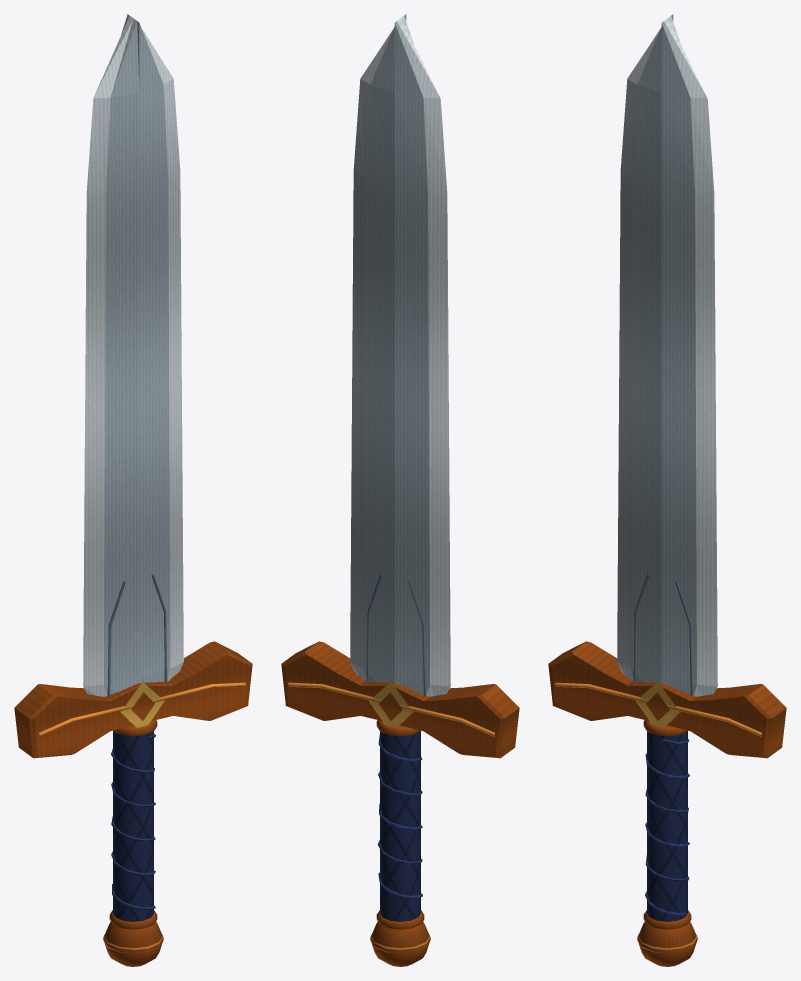
File: biggoron_sword.glb
The picture shows the model from 3 angles, left to right: view 1: azimuth 30°, elevation 25°; view 2: azimuth 150°, elevation 25°; view 3: azimuth 330°, elevation 25°; orthographic projection.
Parts seen in each view (by area): view 1: Long Biggoron steel blade and seated tang facet 1, Long Biggoron steel blade and seated tang facet 2, Long Biggoron steel blade and seated tang facet 0, Orange-bronze Biggoron crossguard, Long Biggoron steel blade and seated tang facet 3, Textured leather grip, Biggoron heavy bronze pommel, Biggoron solid guard rim, Raised spiral leather binding, Goron guard stamped diamond; view 2: Long Biggoron steel blade and seated tang facet 6, Long Biggoron steel blade and seated tang facet 5, Long Biggoron steel blade and seated tang facet 7, Orange-bronze Biggoron crossguard, Long Biggoron steel blade and seated tang facet 4, Textured leather grip, Biggoron heavy bronze pommel, Biggoron solid guard rim, Raised spiral leather binding, Goron guard stamped diamond; view 3: Long Biggoron steel blade and seated tang facet 2, Long Biggoron steel blade and seated tang facet 1, Long Biggoron steel blade and seated tang facet 3, Orange-bronze Biggoron crossguard, Long Biggoron steel blade and seated tang facet 0, Textured leather grip, Biggoron heavy bronze pommel, Raised spiral leather binding, Biggoron solid guard rim, Goron guard stamped diamond.
Part boxes in pixels (x1,y1,x2,y2): Long Biggoron steel blade and seated tang facet 1: (104,21,139,694); Long Biggoron steel blade and seated tang facet 2: (139,23,170,682); Long Biggoron steel blade and seated tang facet 0: (83,18,136,696); Orange-bronze Biggoron crossguard: (14,641,252,758); Long Biggoron steel blade and seated tang facet 3: (141,28,183,681); Textured leather grip: (113,731,153,921); Biggoron heavy bronze pommel: (103,921,163,966); Biggoron solid guard rim: (39,682,245,736); Raised spiral leather binding: (111,734,155,910); Goron guard stamped diamond: (120,681,164,727); Long Biggoron steel blade and seated tang facet 6: (394,21,429,694); Long Biggoron steel blade and seated tang facet 5: (363,27,394,682); Long Biggoron steel blade and seated tang facet 7: (397,18,450,696); Orange-bronze Biggoron crossguard: (281,641,519,758); Long Biggoron steel blade and seated tang facet 4: (350,30,392,681); Textured leather grip: (380,731,420,921); Biggoron heavy bronze pommel: (370,921,430,966); Biggoron solid guard rim: (288,682,494,736); Raised spiral leather binding: (377,735,422,898); Goron guard stamped diamond: (369,681,413,727); Long Biggoron steel blade and seated tang facet 2: (661,21,696,694); Long Biggoron steel blade and seated tang facet 1: (630,27,661,682); Long Biggoron steel blade and seated tang facet 3: (664,18,717,696); Orange-bronze Biggoron crossguard: (548,641,786,758); Long Biggoron steel blade and seated tang facet 0: (617,30,659,681); Textured leather grip: (647,731,687,921); Biggoron heavy bronze pommel: (637,921,697,966); Raised spiral leather binding: (645,739,689,915); Biggoron solid guard rim: (555,682,761,736); Goron guard stamped diamond: (636,681,680,727).
Size of the model in its own units: 26 by 105 by 6.09.
Materials: 8 (8 with a texture image).
